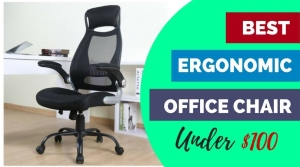chair: (35, 5, 126, 164)
